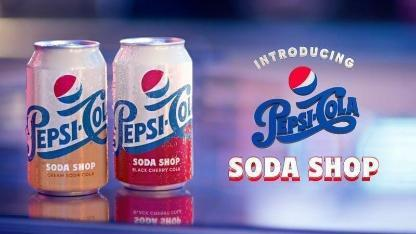Can: (25, 38, 109, 198), (110, 36, 193, 192)
